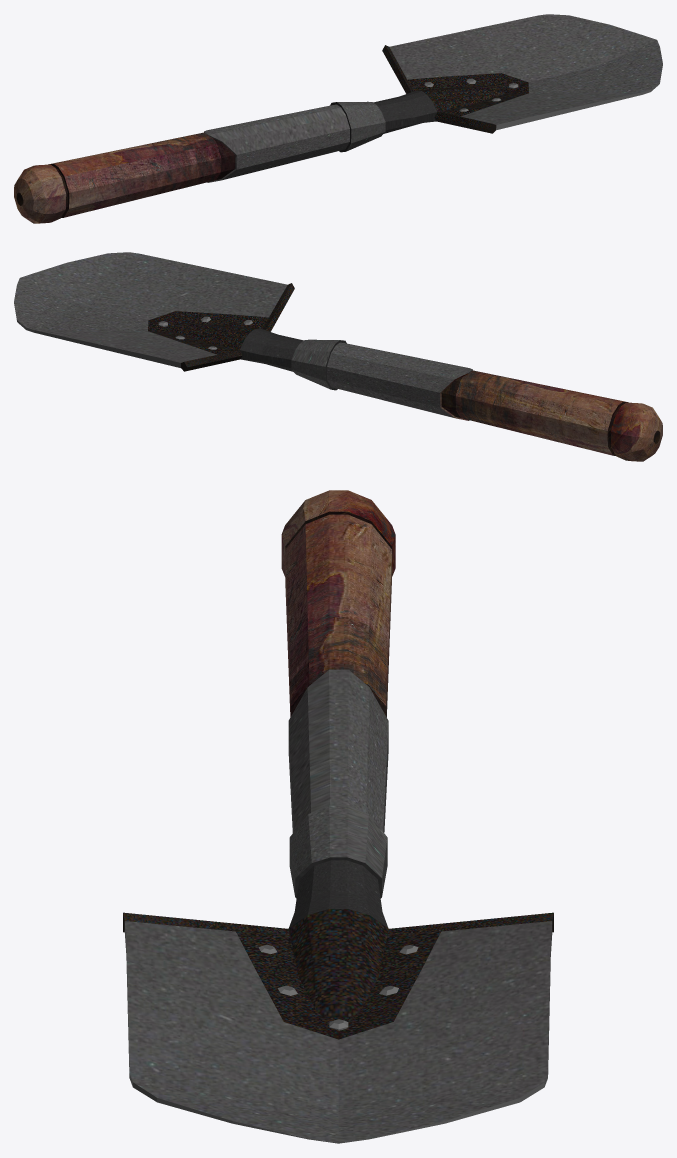
The model's file is WorldItem_TrenchShovel.fbx.
3 views of the same model, one above another, from view 1: azimuth 30°, elevation 25°; view 2: azimuth 150°, elevation 25°; view 3: azimuth 270°, elevation 25° (orthographic). The views are drawn at different scales.
Parts seen in each view (by area): view 1: ZomboidTrenchShovel; view 2: ZomboidTrenchShovel; view 3: ZomboidTrenchShovel.
Part boxes in pixels (box(x1,y1,x2,y2)): ZomboidTrenchShovel: box(14, 14, 662, 223); ZomboidTrenchShovel: box(14, 252, 662, 461); ZomboidTrenchShovel: box(123, 490, 553, 1143).
Size of the model in its own units: 0.4196 by 0.0352 by 0.1228.
